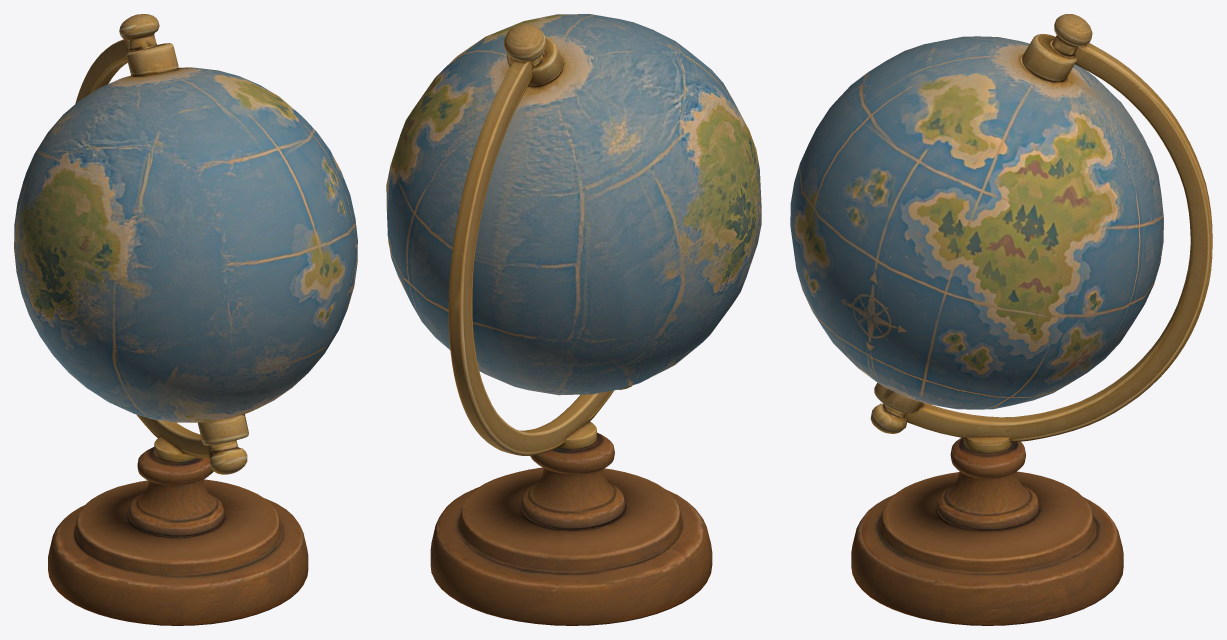
File: globe.glb
The picture shows the model from 3 angles, left to right: view 1: azimuth 30°, elevation 25°; view 2: azimuth 150°, elevation 25°; view 3: azimuth 270°, elevation 25°; orthographic projection. The views are drawn at different scales.
Parts seen in each view (by area): view 1: tripo_node_c4fa5dcf-f1c7-412b-a178-438f3a3f274f; view 2: tripo_node_c4fa5dcf-f1c7-412b-a178-438f3a3f274f; view 3: tripo_node_c4fa5dcf-f1c7-412b-a178-438f3a3f274f.
Part boxes in pixels (box(x1,y1,x2,y2)): tripo_node_c4fa5dcf-f1c7-412b-a178-438f3a3f274f: box(14, 14, 357, 625); tripo_node_c4fa5dcf-f1c7-412b-a178-438f3a3f274f: box(386, 14, 761, 625); tripo_node_c4fa5dcf-f1c7-412b-a178-438f3a3f274f: box(790, 14, 1212, 625).
Bounding box in the file's own units: 0.5815 × 0.9995 × 0.6909.
Materials: 1 (1 with a texture image).
